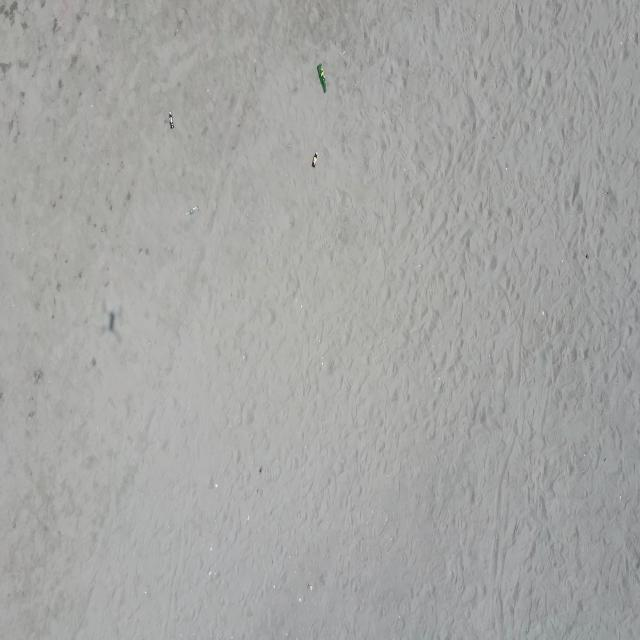glass: (317, 64, 327, 92), (185, 205, 199, 216), (168, 110, 175, 130), (311, 151, 318, 168)
